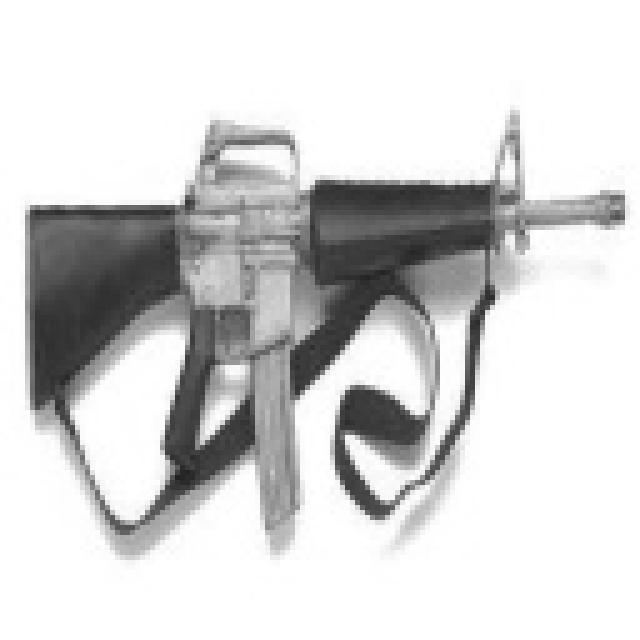Rifle: (15, 80, 640, 592)
